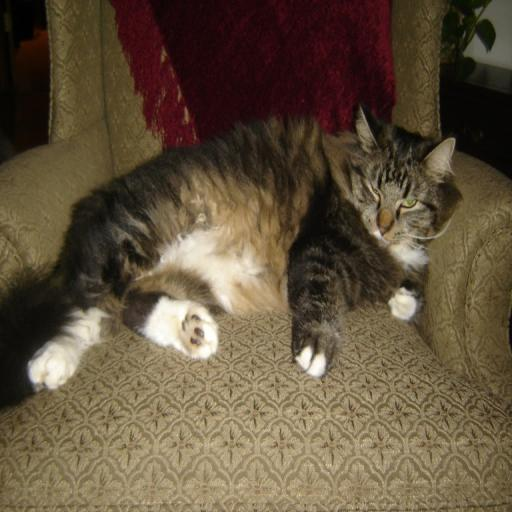cat: (0, 104, 463, 408)
